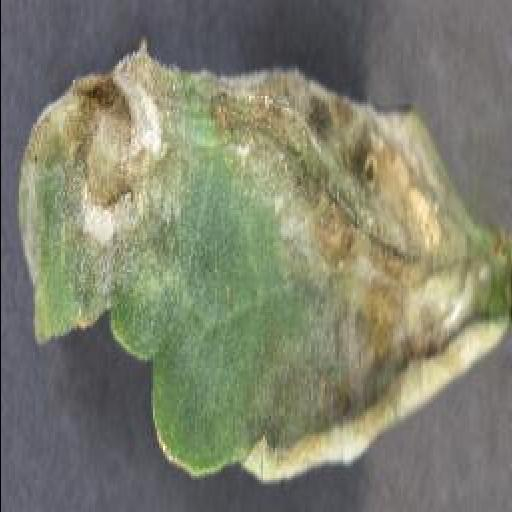disease_tomato: (16, 40, 512, 486)
